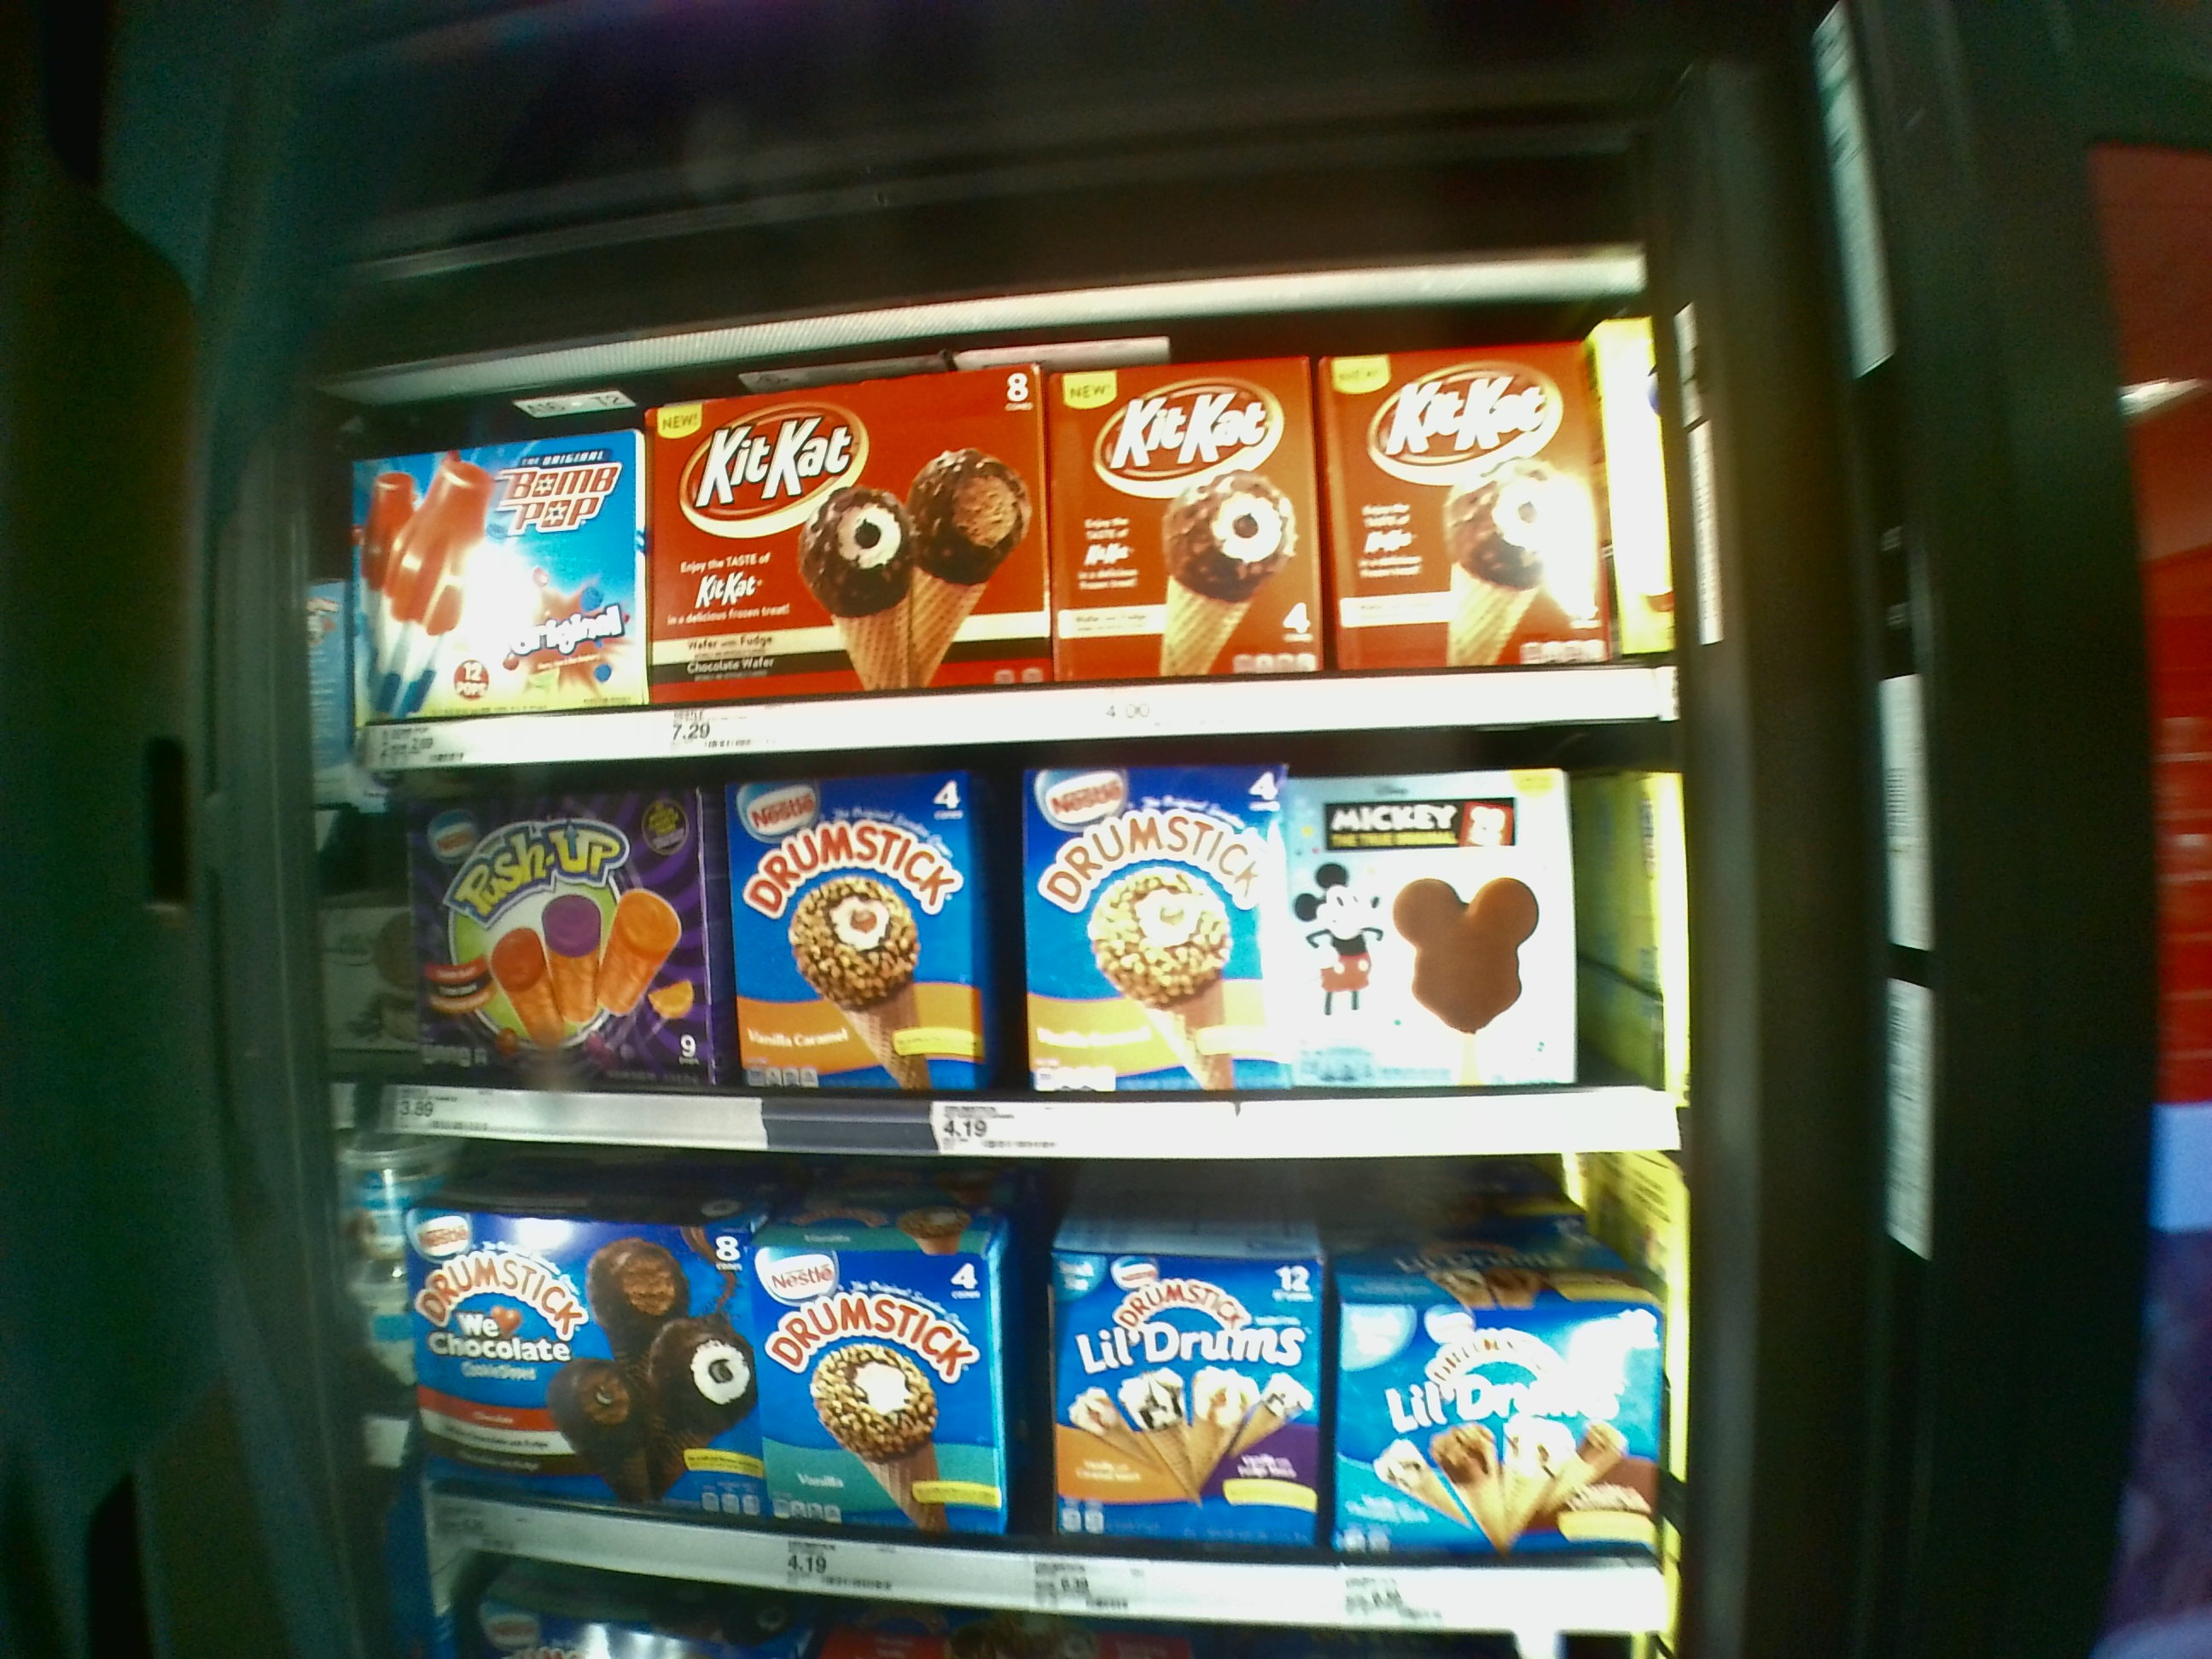shelf: (320, 315, 1672, 777), (395, 1171, 1672, 1642), (371, 777, 1683, 1161)
